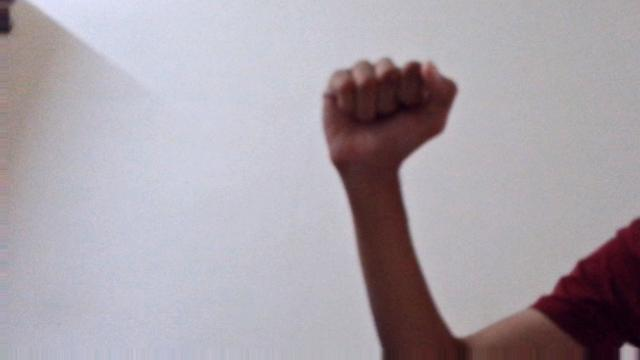Front: (320, 59, 457, 164)
